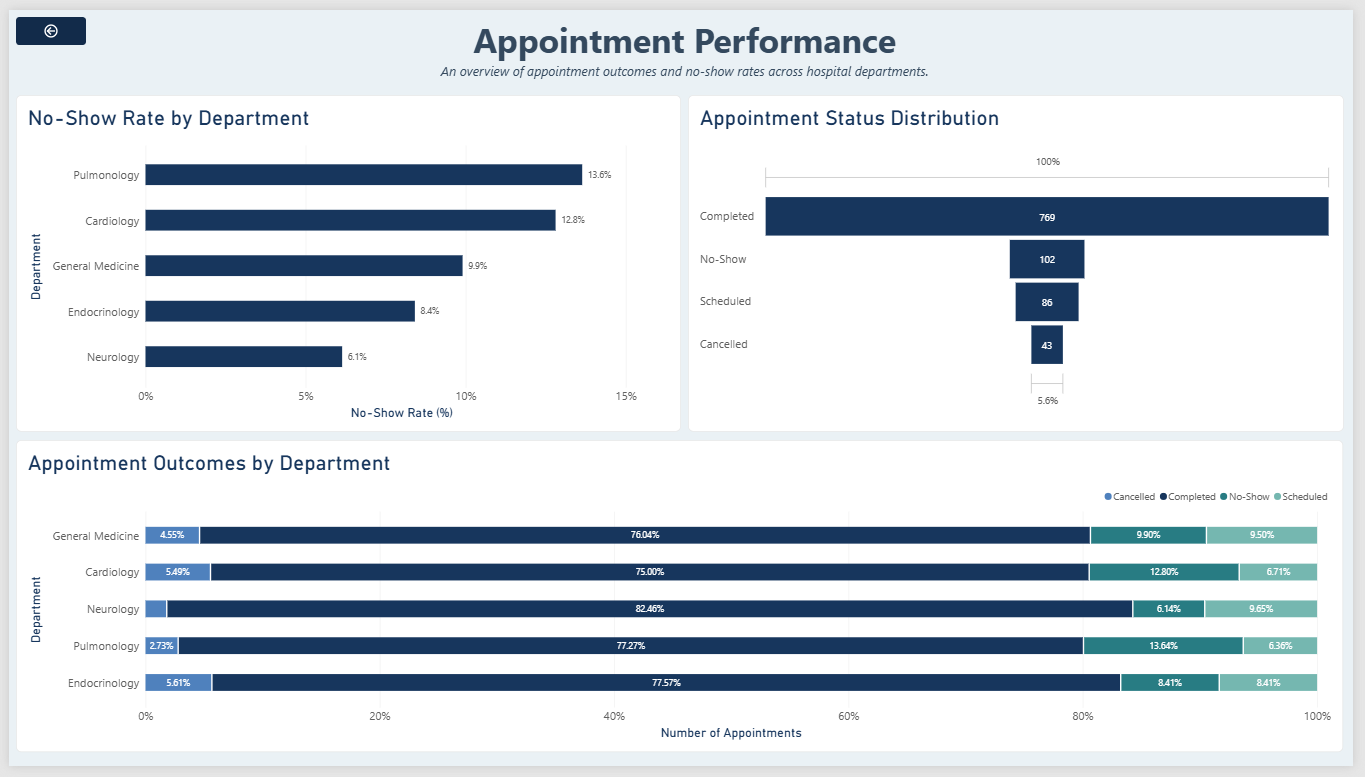

Layout of this report page (visuals, bound fields, positions):
{"tool":"powerbi","page":{"name":"Appointment Performance","canvas":[1920,1080],"ordinal":1},"visuals":[{"type":"clusteredBarChart","title":"No-Show Rate by Department","fields":{"Category":["Department.dept_Name"],"Y":["Appointment.No-Show Rate"]},"box":[10,121.4,950,481.4],"z":0},{"type":"textbox","box":[121.6,9.4,1687.5,106.9],"z":1},{"type":"hundredPercentStackedBarChart","title":"Appointment Outcomes by Department","fields":{"Category":["Department.dept_Name"],"Series":["Appointment.appointment_status"],"Y":["CountNonNull(Appointment.appoIntment_Id)"]},"box":[10,614.3,1895.7,445.7],"z":2},{"type":"actionButton","box":[10.7,9.4,100,40],"z":3},{"type":"funnel","title":"Appointment Status Distribution","fields":{"Category":["Appointment.appointment_status"],"Y":["CountNonNull(Appointment.appoIntment_Id)"]},"box":[970,121.4,937.1,481.4],"z":4}]}

Visuals, with their boxes in screenshot pixels (x1, y1, x2, y2), scaled from the page's 1920x1080 canvas onto the 1365x777 screenshot:
"No-Show Rate by Department" clusteredBarChart: (left=7, top=87, right=682, bottom=434)
textbox: (left=86, top=7, right=1286, bottom=84)
"Appointment Outcomes by Department" hundredPercentStackedBarChart: (left=7, top=442, right=1355, bottom=763)
actionButton: (left=8, top=7, right=79, bottom=36)
"Appointment Status Distribution" funnel: (left=690, top=87, right=1356, bottom=434)
